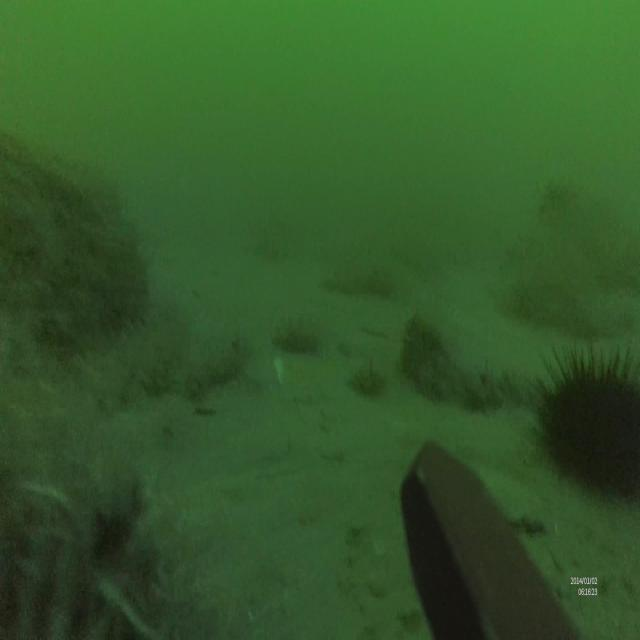echinus: (529, 328, 640, 504)
